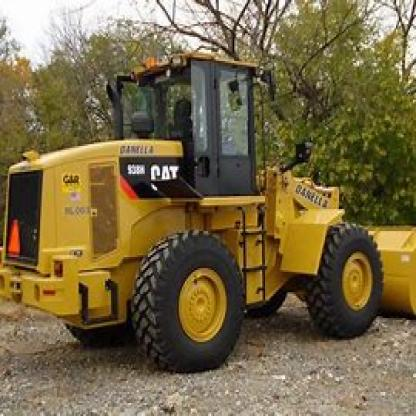bull_dozer/loader/grader: (0, 49, 414, 375)
